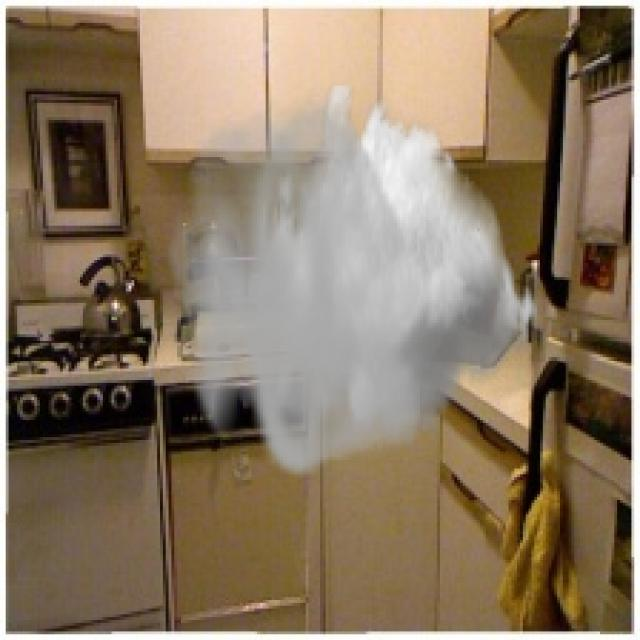smoke: (169, 86, 540, 483)
